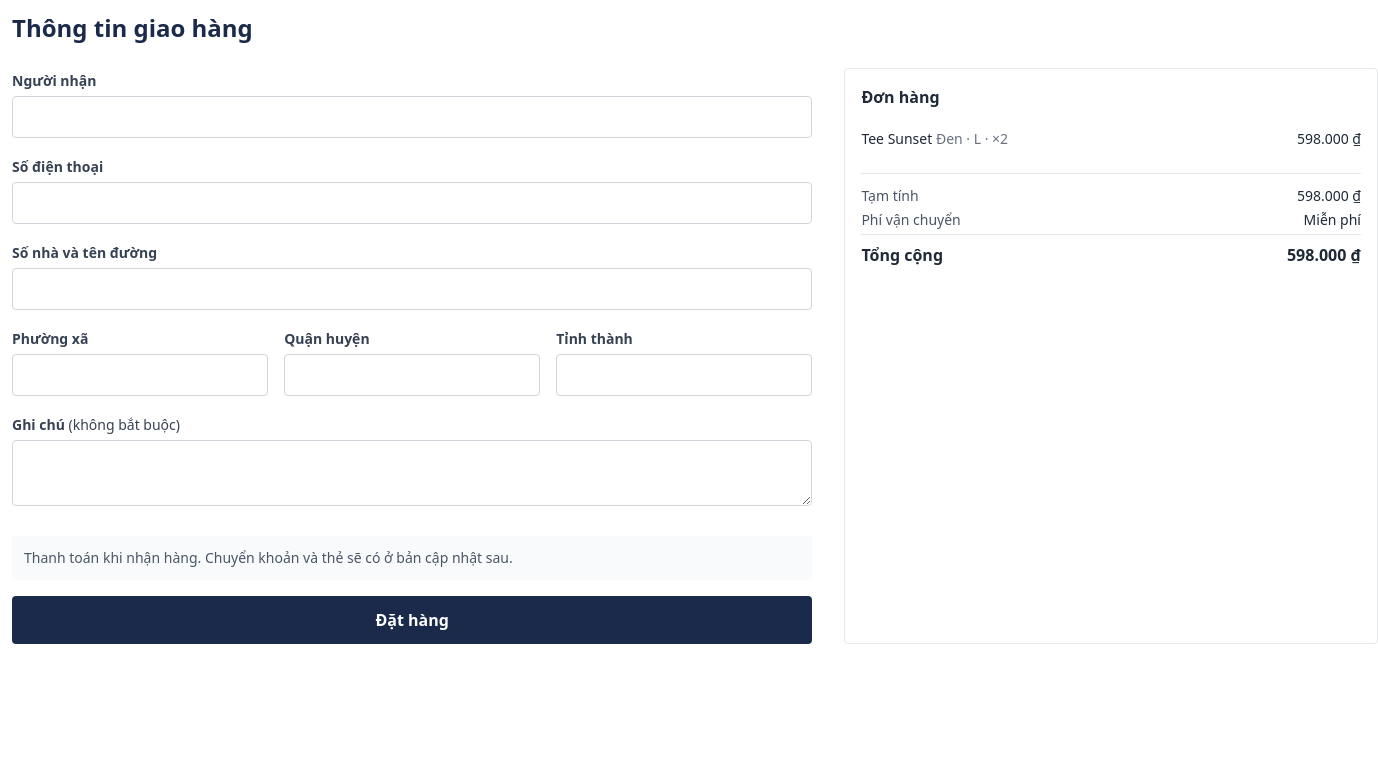
Test case: CheckoutPage › số điện thoại sai bị chặn tại chỗ, không gọi API
Type "Nguyễn Văn A" into the field labelled "Người nhận" at (412, 117), box [12,96,812,138]
Type "12345" into the field labelled "Số điện thoại" at (412, 203), box [12,182,812,224]
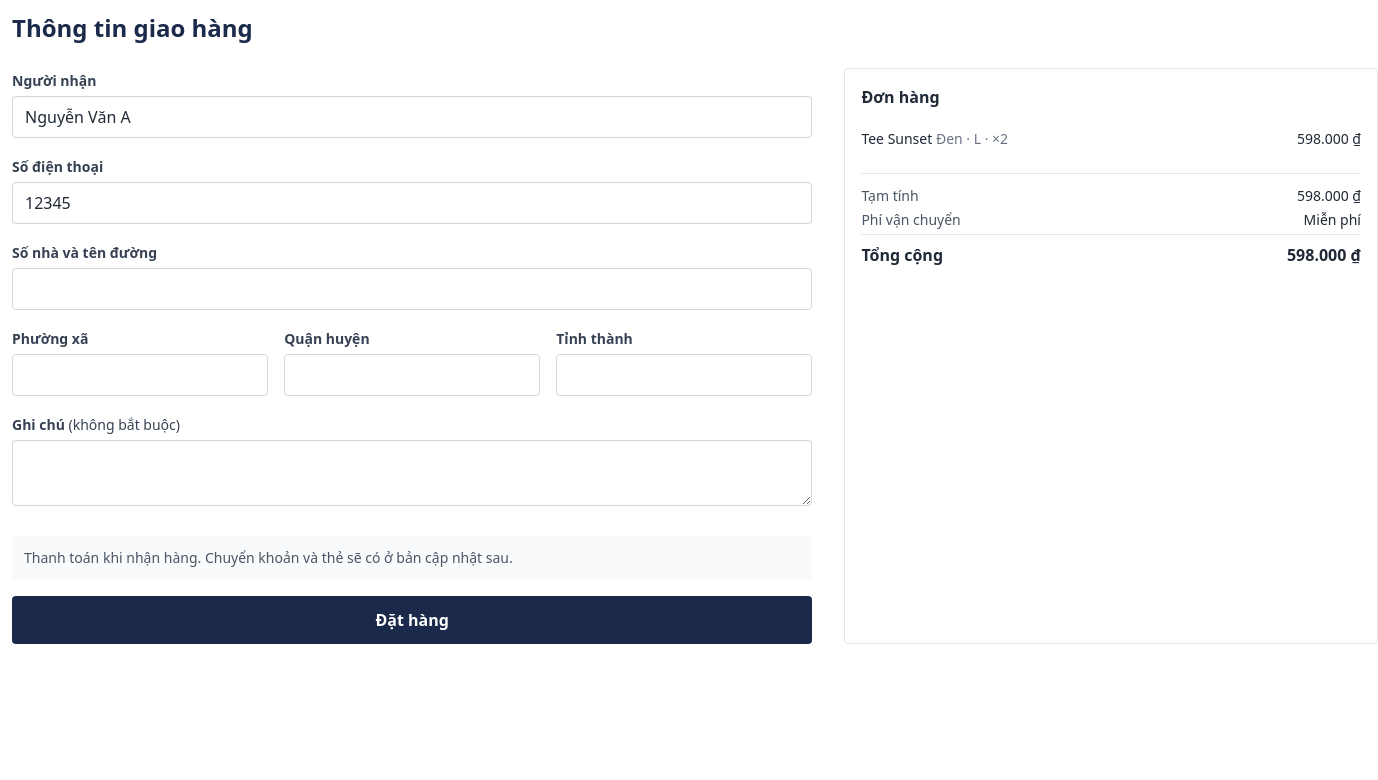
Type "12 Nguyễn Huệ" into the field labelled "Số nhà và tên đường" at (412, 289), box [12,268,812,310]
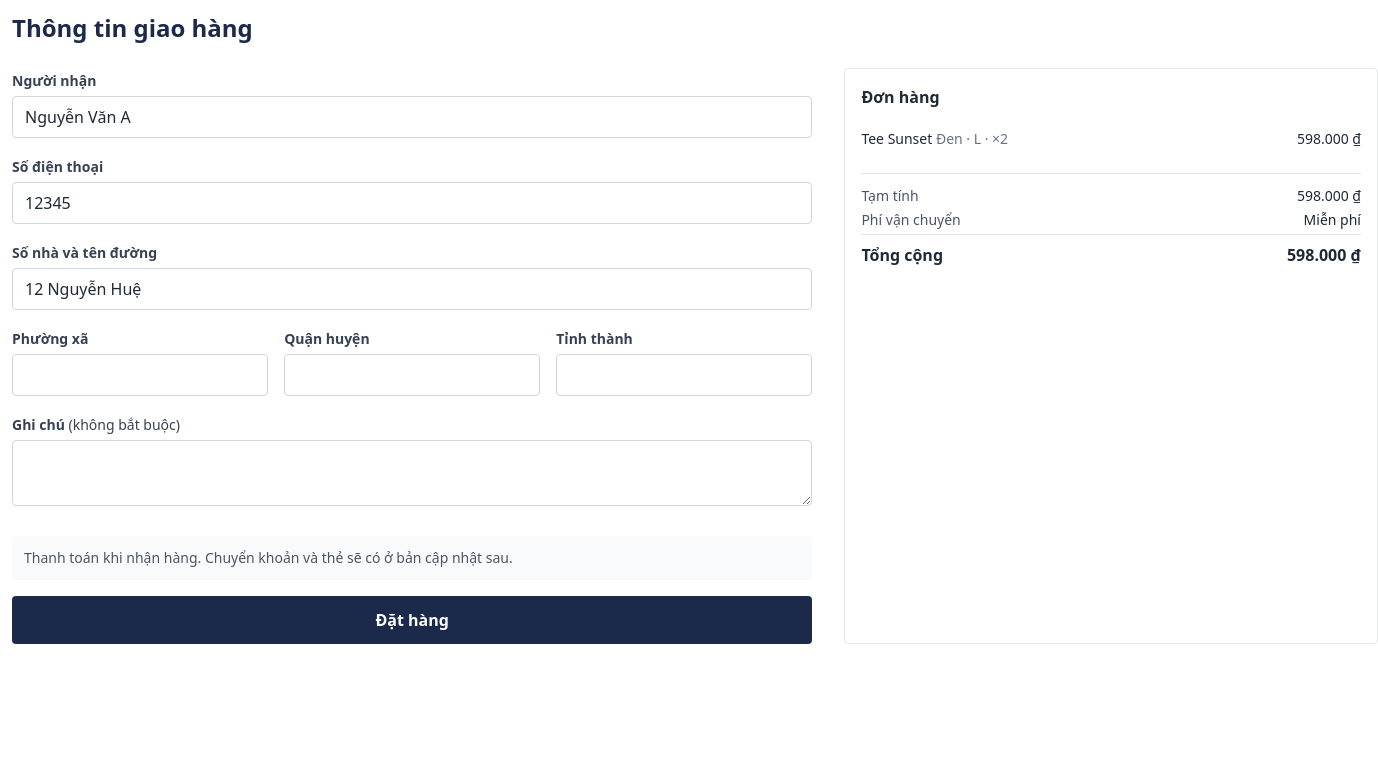
Type "Bến Nghé" into the field labelled "Phường xã" at (140, 375), box [12,354,268,396]
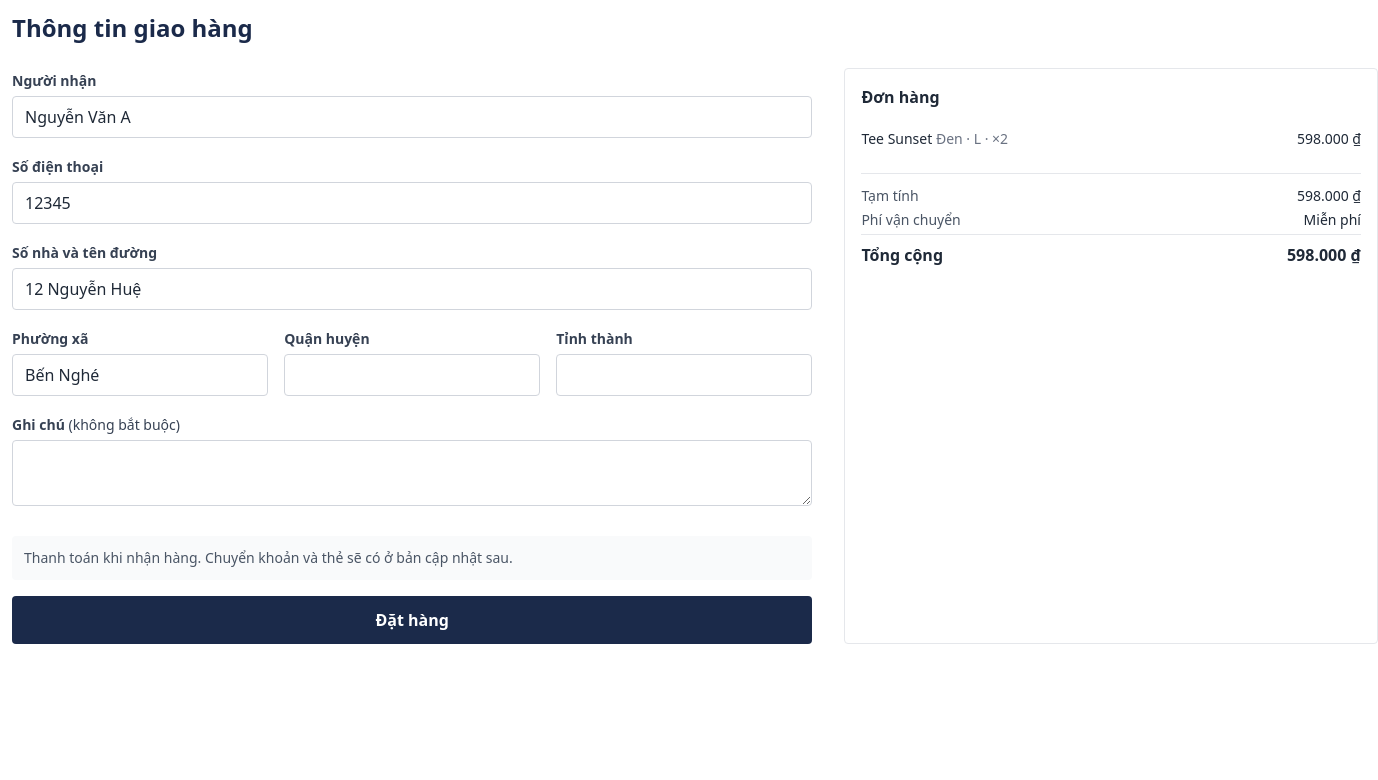
Type "Quận 1" into the field labelled "Quận huyện" at (412, 375), box [284,354,540,396]
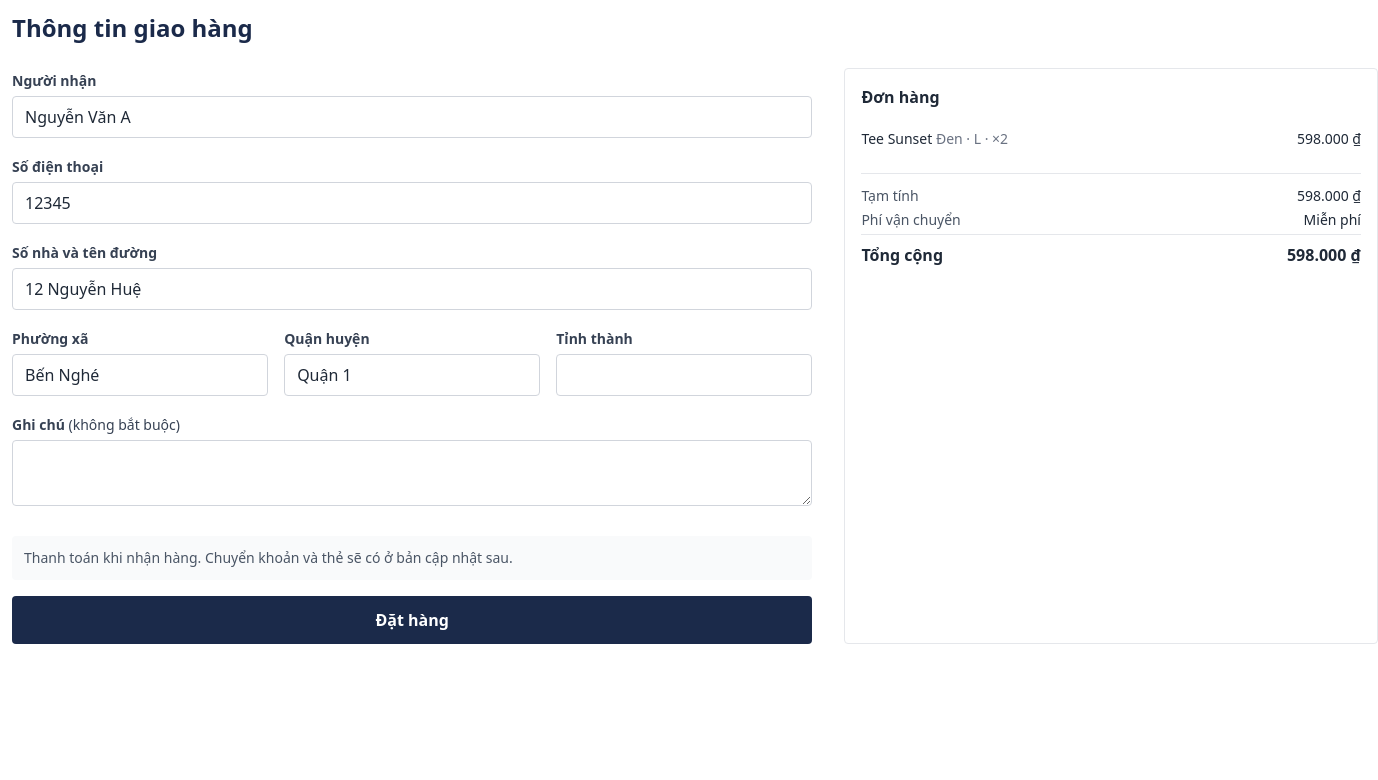
Type "TP Hồ Chí Minh" into the field labelled "Tỉnh thành" at (684, 375), box [556,354,812,396]
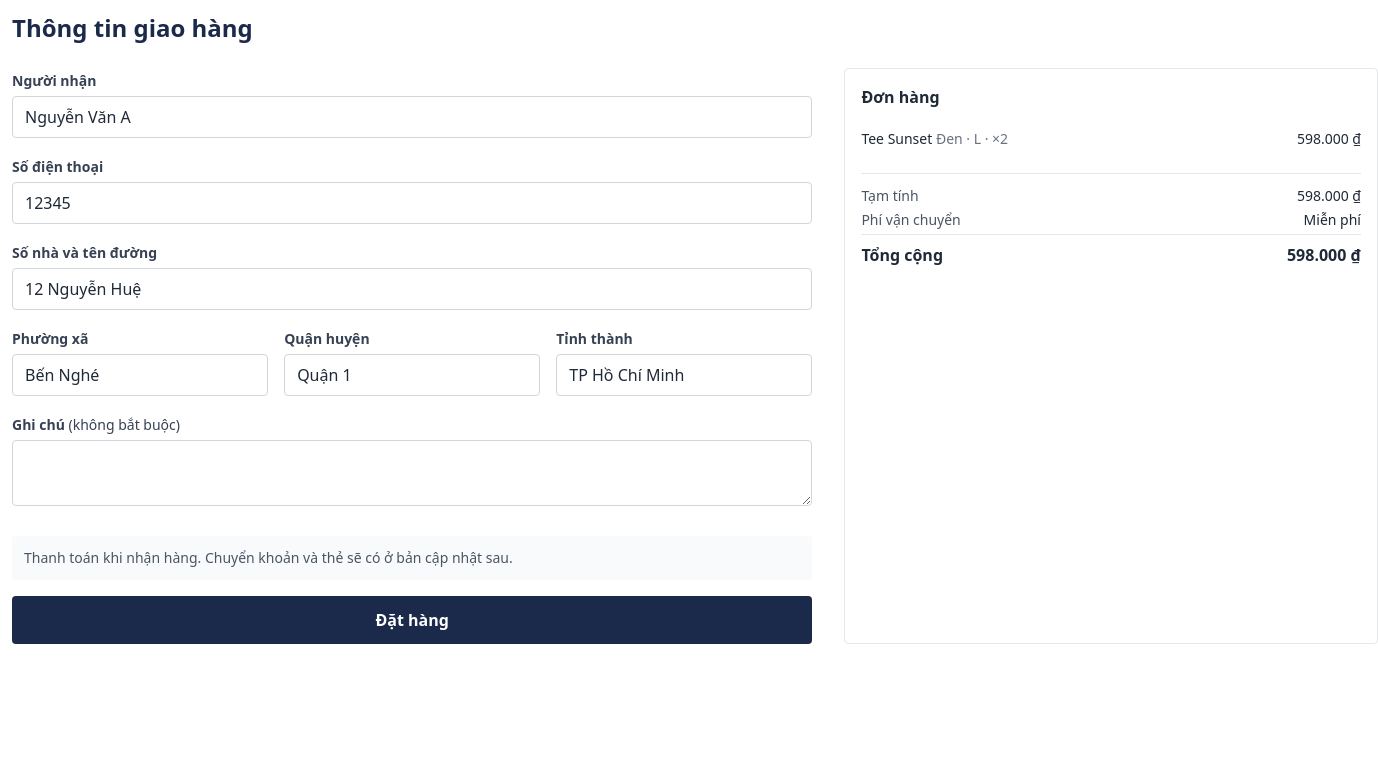
Submit the form from the button "Đặt hàng", box [12,596,812,644]
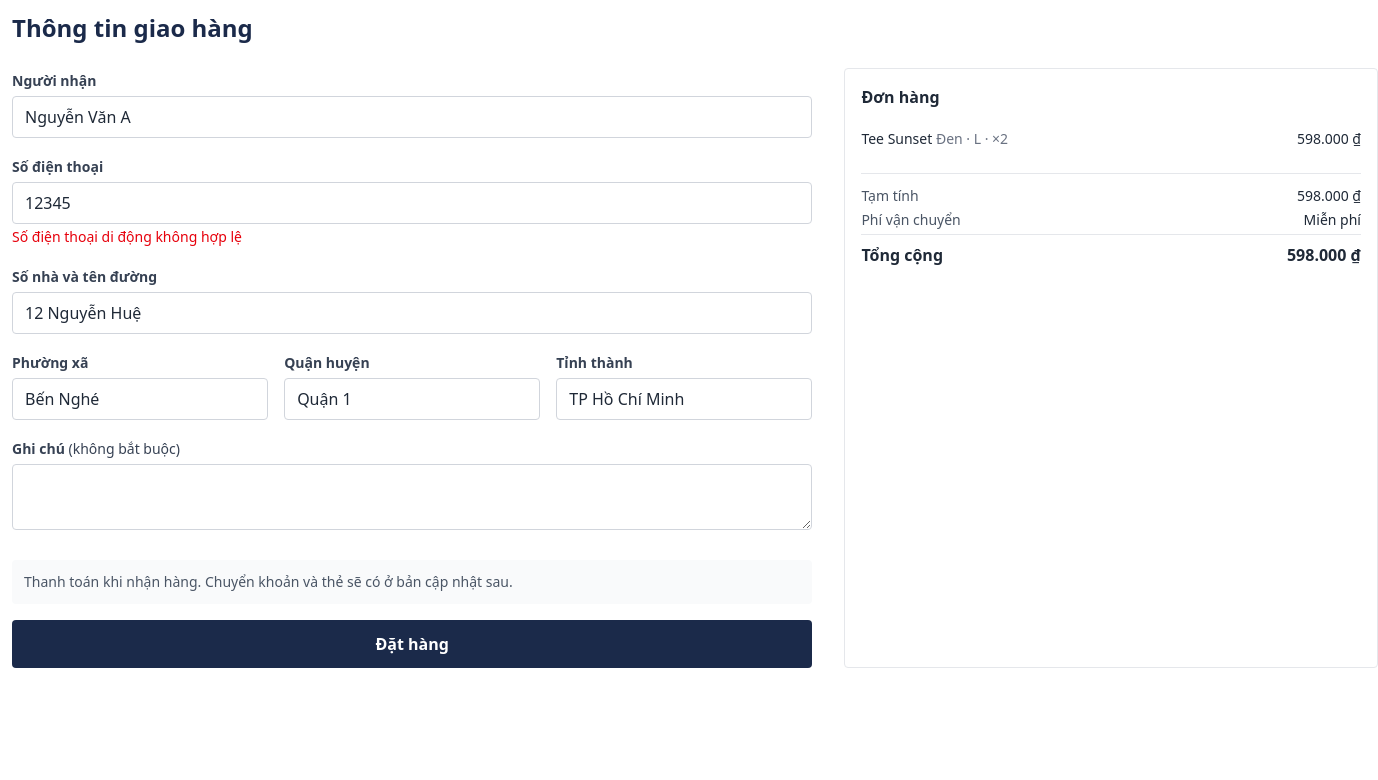
Expected: the text "Số điện thoại di động không hợp lệ" is shown, [12,227,242,246]
